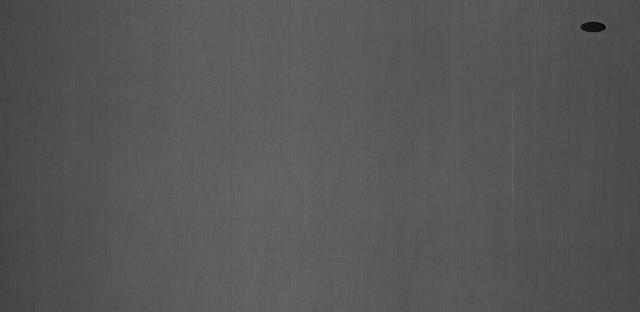punching_hole: (578, 18, 610, 37)
